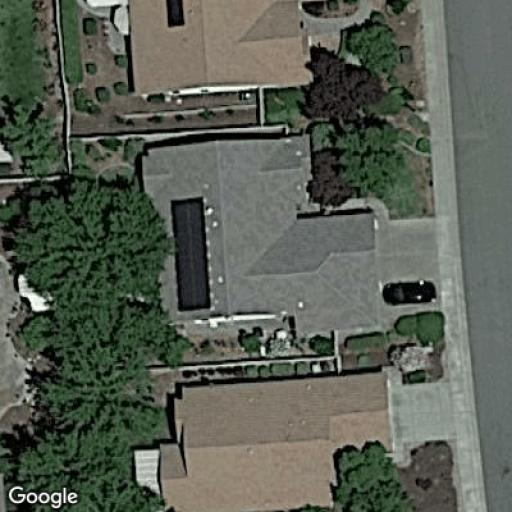solar-panel: (169, 192, 214, 315), (166, 0, 186, 29)
